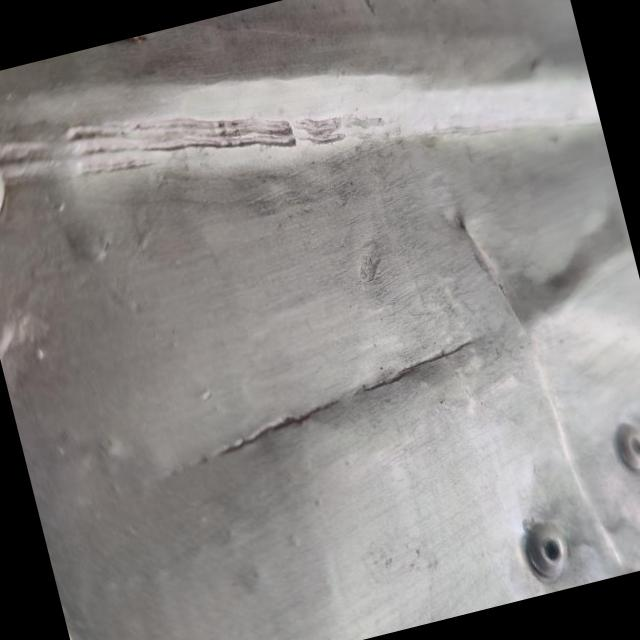Scratch: (174, 300, 496, 497)
